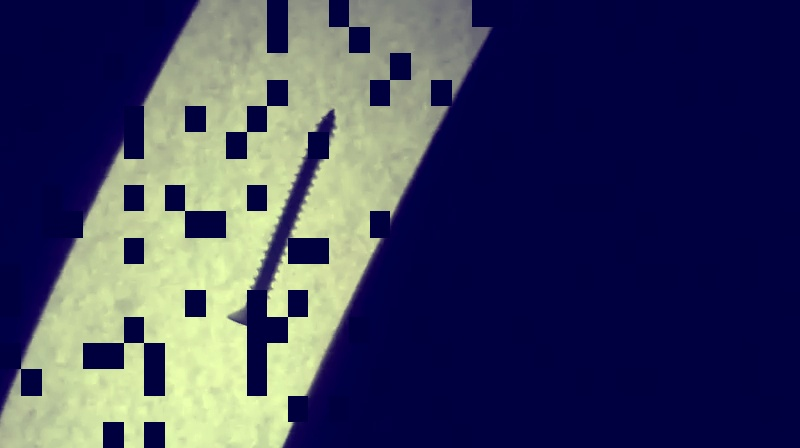S002: (222, 106, 339, 337)
